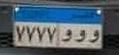7: (15, 24, 25, 43), (26, 25, 36, 42), (47, 26, 56, 44), (37, 25, 46, 43)
waw: (88, 27, 99, 45), (74, 29, 86, 44), (60, 28, 72, 43)
